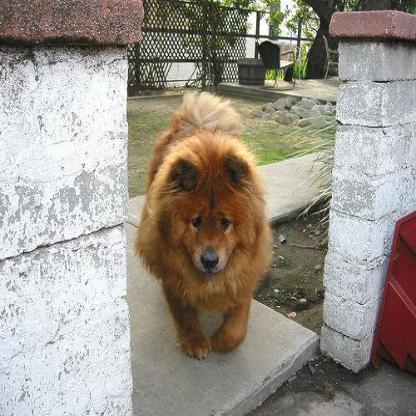chow: (130, 80, 275, 361)
